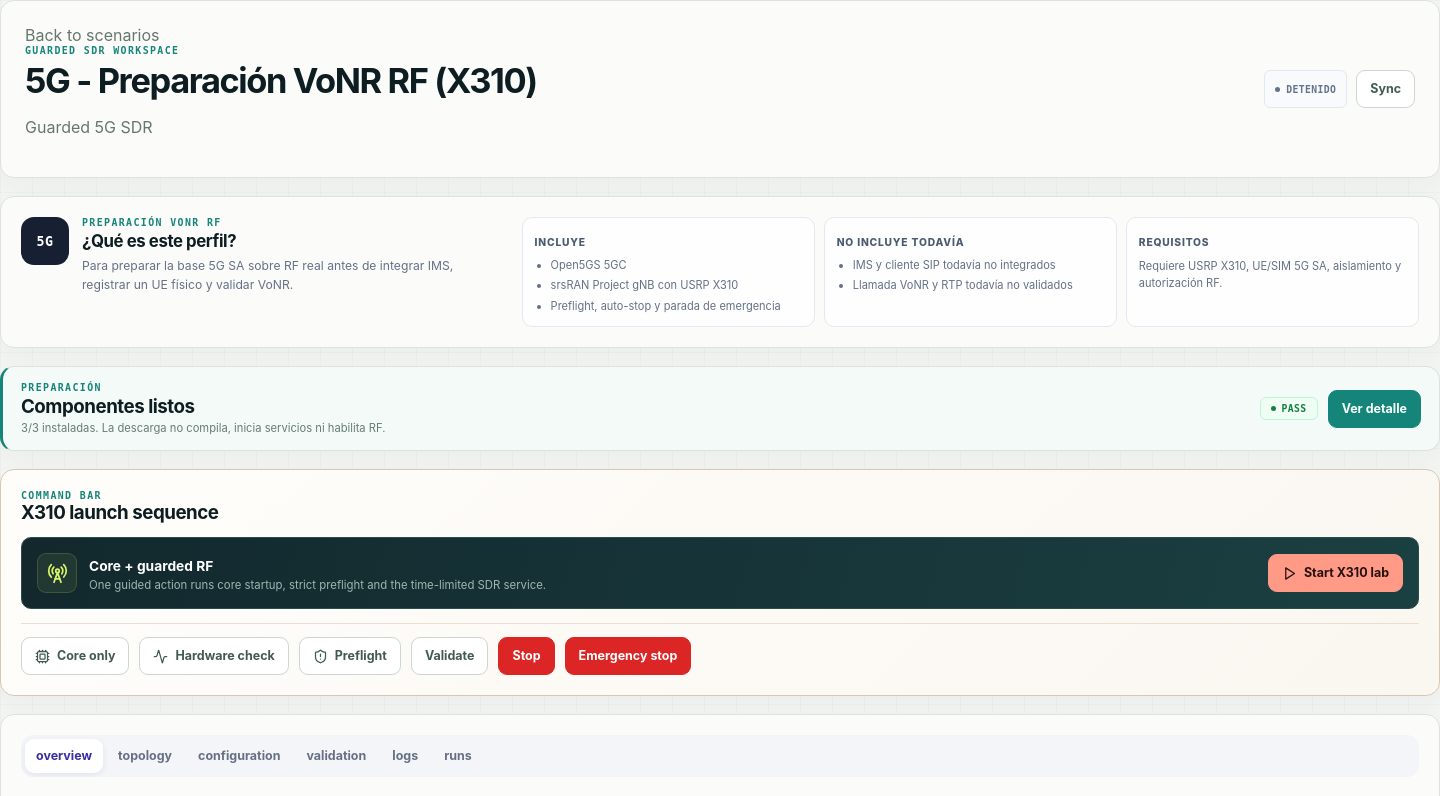
Scenario workspaces › shows applied 5G values instead of a hardcoded RF summary
The width and height of the screenshot is (1440, 796).
Click the button "Start X310 lab". click: [1335, 573]
box: [1268, 554, 1403, 592]
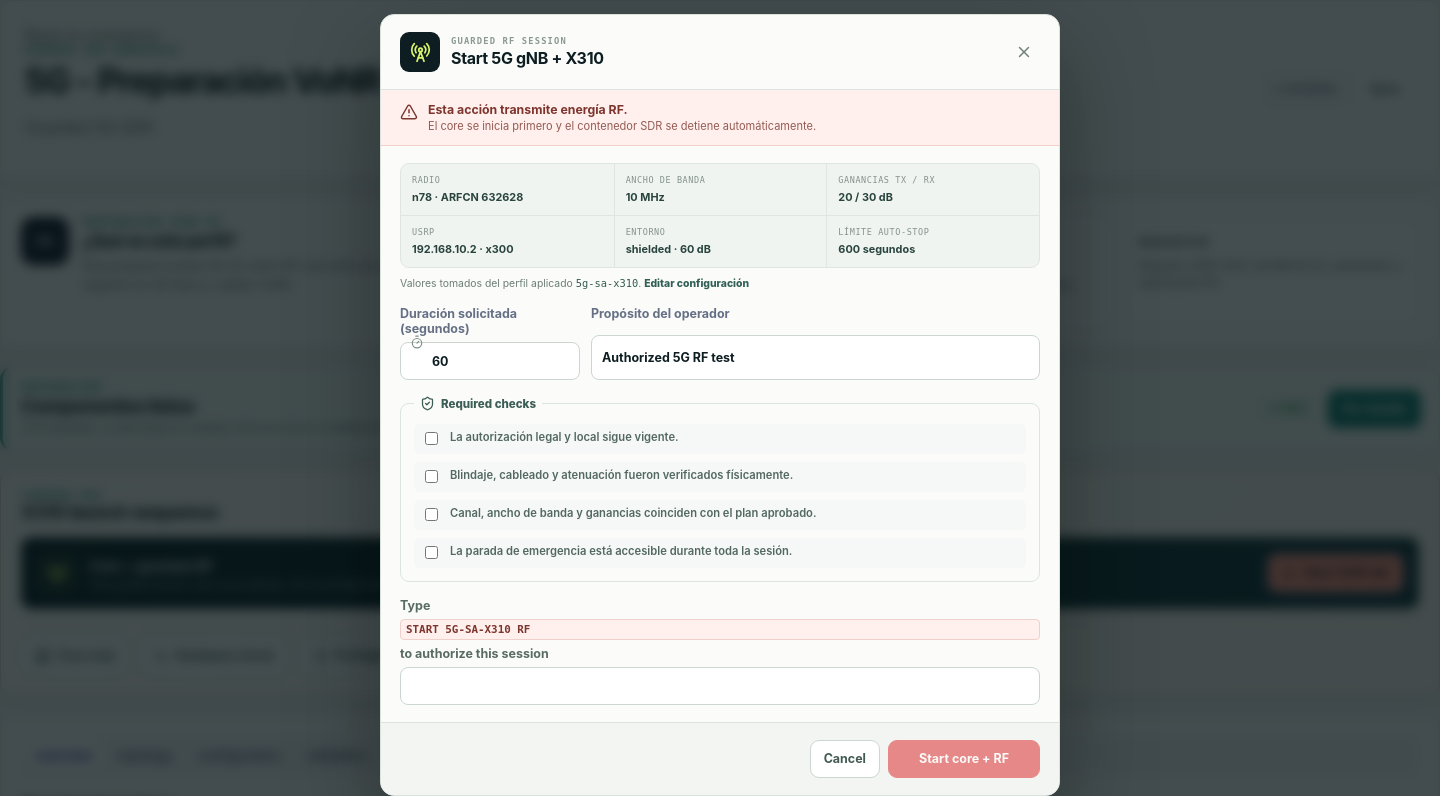
Check: the text "n78 · ARFCN 632628" is shown, box [412, 190, 523, 204]
Check: the text "10 MHz" is shown, box [626, 190, 665, 204]
Check: the text "20 / 30 dB" is shown, box [838, 190, 893, 204]
